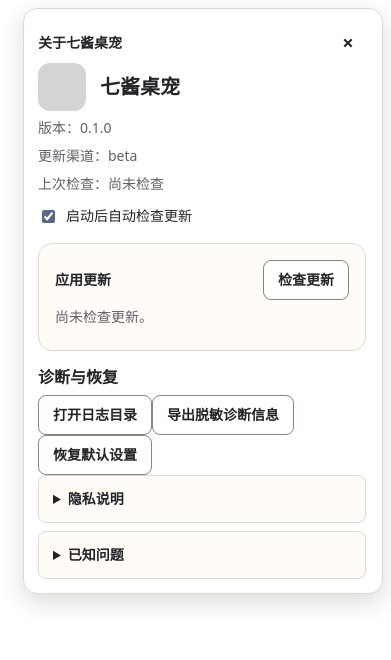
Test: UpdatePanel › keeps asynchronous About feedback working under StrictMode effect replay
Click the button "恢复默认设置": (95, 455) [38,435,152,475]
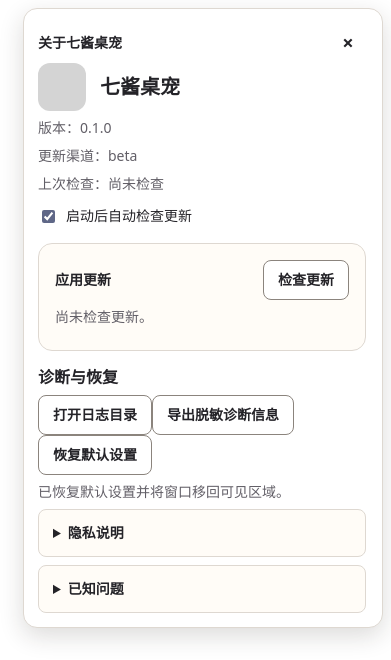
Expected: the text "已恢复默认设置并将窗口移回可见区域。" is shown, [38,482,290,501]
